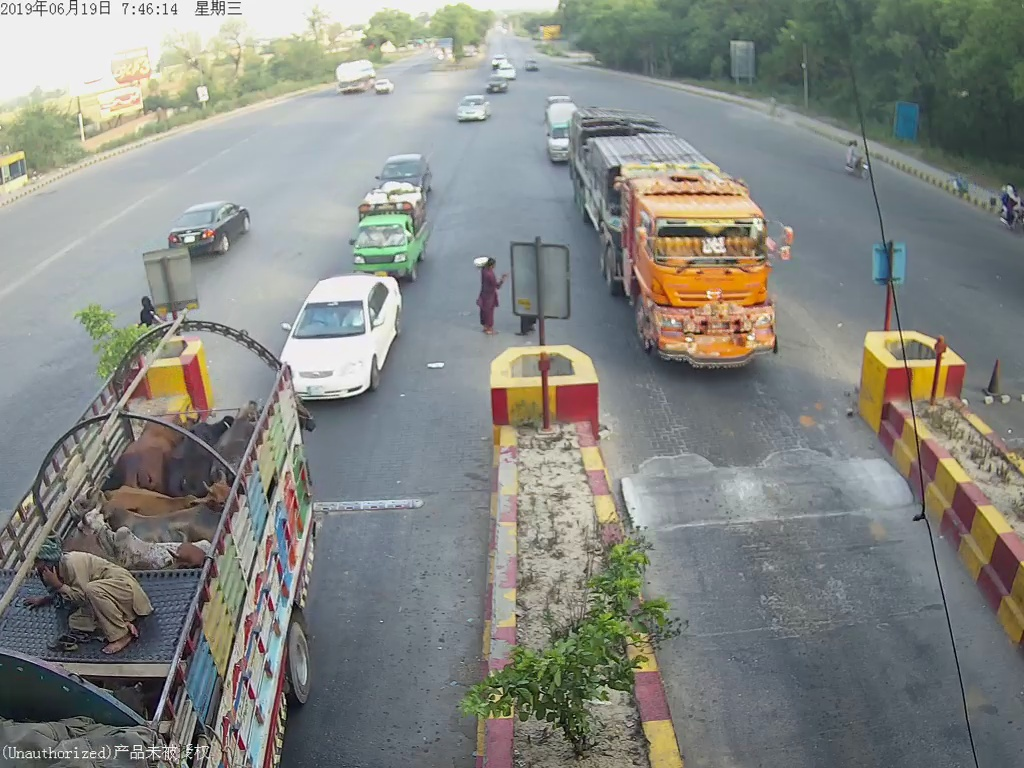Cat-1: (285, 278, 399, 402), (346, 193, 421, 264)
Cat-5: (580, 124, 785, 370)
